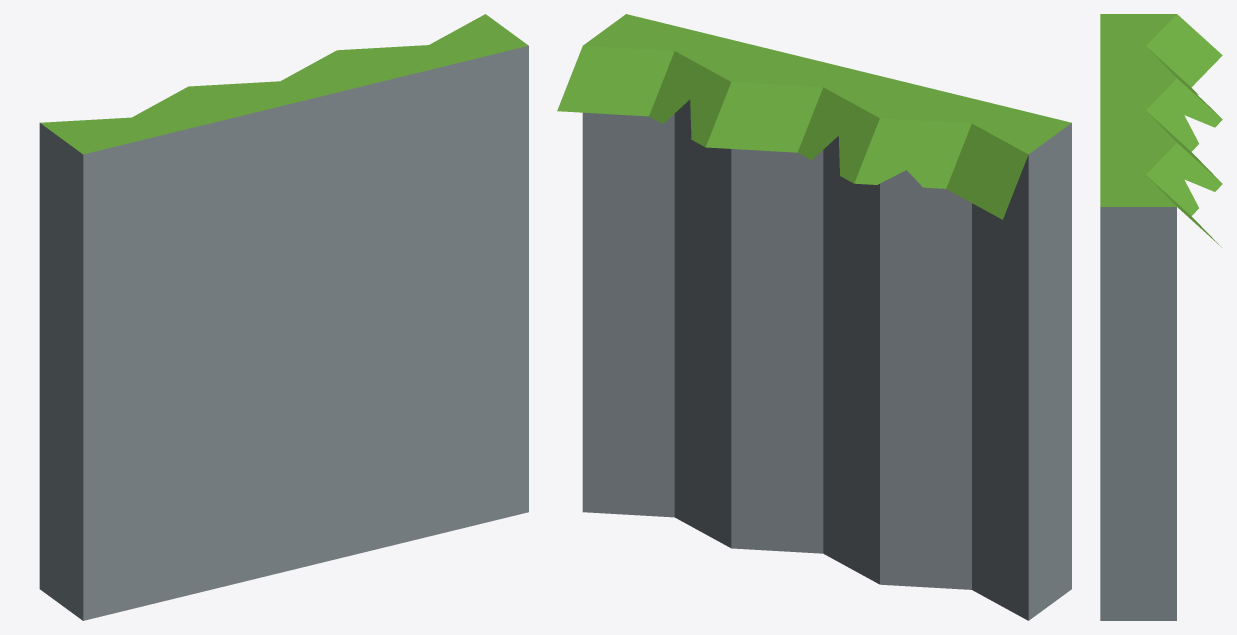
Rendered from cliff_top_stone.glb.
3 renders of one model, left to right at view 1: azimuth 30°, elevation 25°; view 2: azimuth 150°, elevation 25°; view 3: azimuth 270°, elevation 25°, orthographic. The views are drawn at different scales.
Visible parts, largest first — view 1: cliff_top_stone; view 2: cliff_top_stone; view 3: cliff_top_stone.
Part boxes in pixels (bbox=[...]): cliff_top_stone: bbox=[39, 14, 528, 620]; cliff_top_stone: bbox=[557, 14, 1071, 620]; cliff_top_stone: bbox=[1100, 14, 1222, 620].
Bounding box in the file's own units: 1 × 1 × 0.2685.
